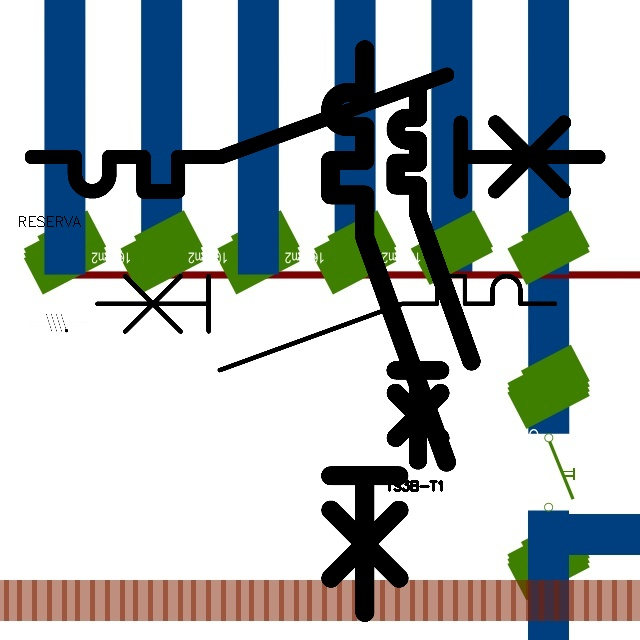interruptor_termomagnetico: (17, 60, 612, 206), (316, 35, 461, 627), (85, 264, 567, 382), (386, 80, 481, 469)
